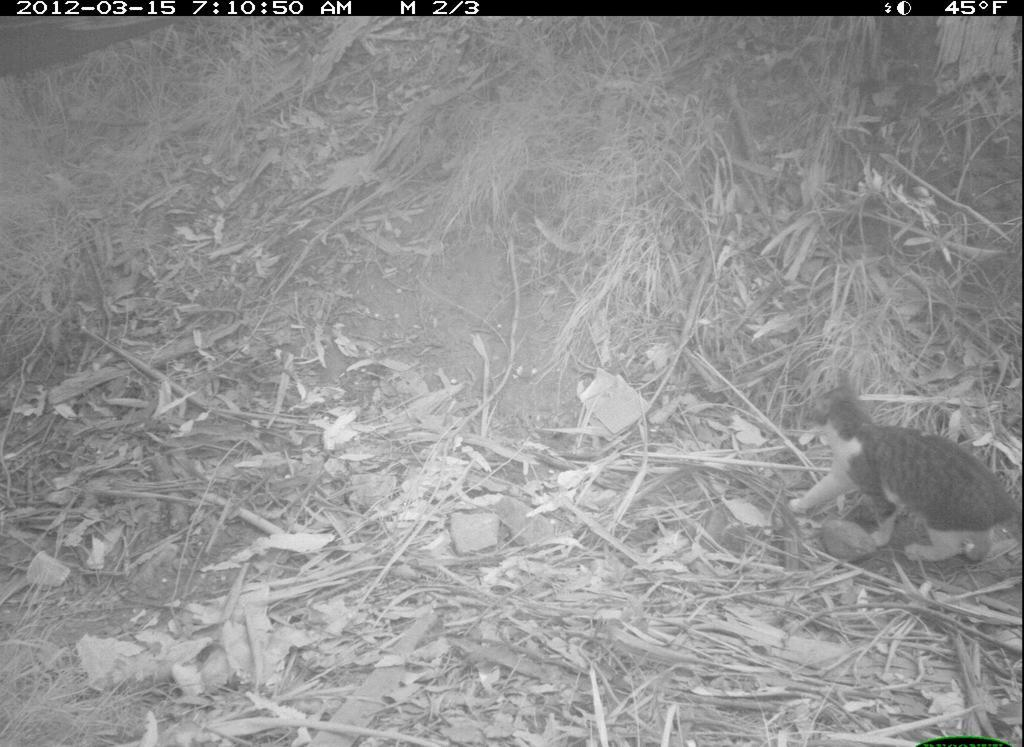cat: (790, 368, 1019, 564)
